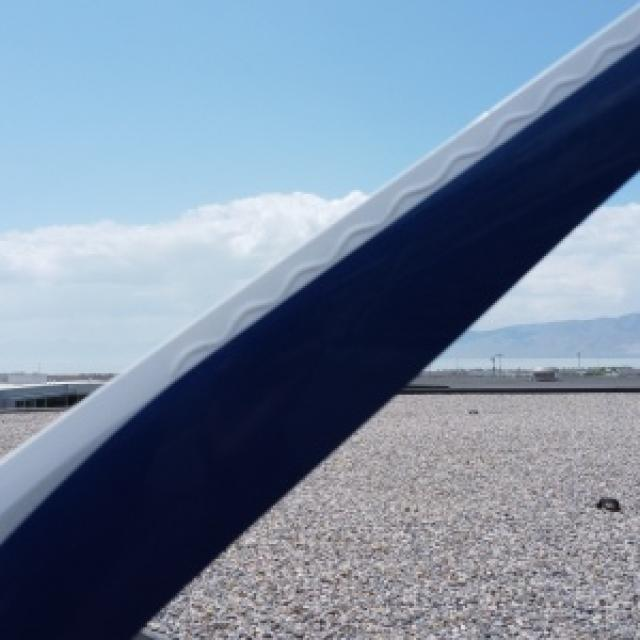healthy: (0, 6, 638, 638)
